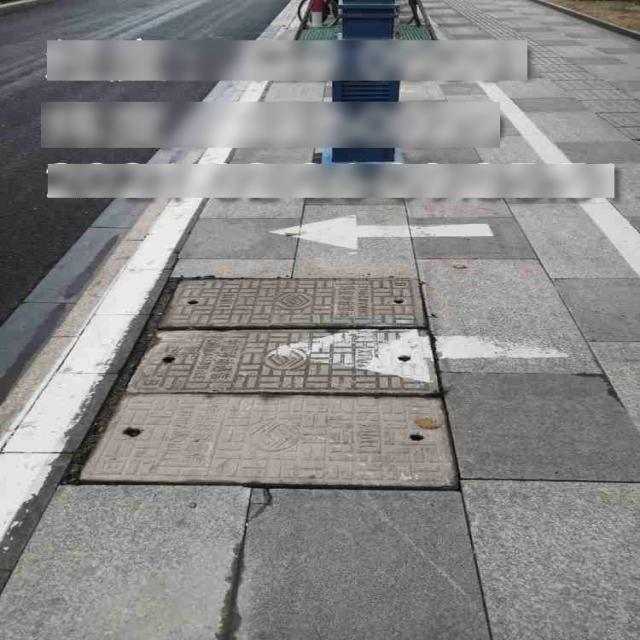Good: (86, 274, 480, 508)
